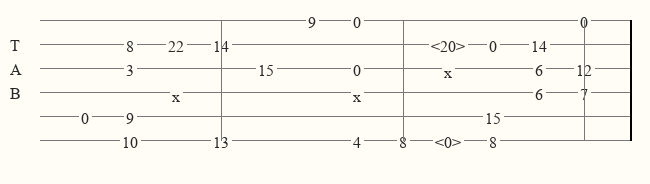0: (81, 109, 93, 124), (353, 61, 365, 76), (353, 13, 365, 28), (489, 37, 501, 52), (580, 13, 592, 28)
10: (122, 133, 142, 148)
12: (576, 61, 596, 76)
13: (213, 133, 233, 148)
14: (213, 37, 233, 52), (531, 37, 551, 52)
15: (258, 61, 278, 76), (485, 109, 505, 124)
22: (168, 37, 188, 52)
3: (126, 61, 138, 76)
4: (353, 133, 365, 148)
6: (535, 61, 547, 76), (535, 85, 547, 100)
7: (580, 85, 592, 100)
8: (126, 37, 138, 52), (399, 133, 411, 148), (489, 133, 501, 148)
9: (126, 109, 138, 124), (308, 13, 320, 28)
harmonic: (431, 37, 469, 52), (435, 133, 465, 148)
x: (172, 87, 184, 98), (353, 87, 365, 98), (444, 63, 456, 74)
